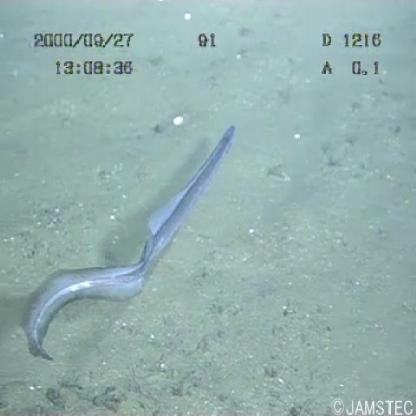Bio: (18, 120, 240, 368)
